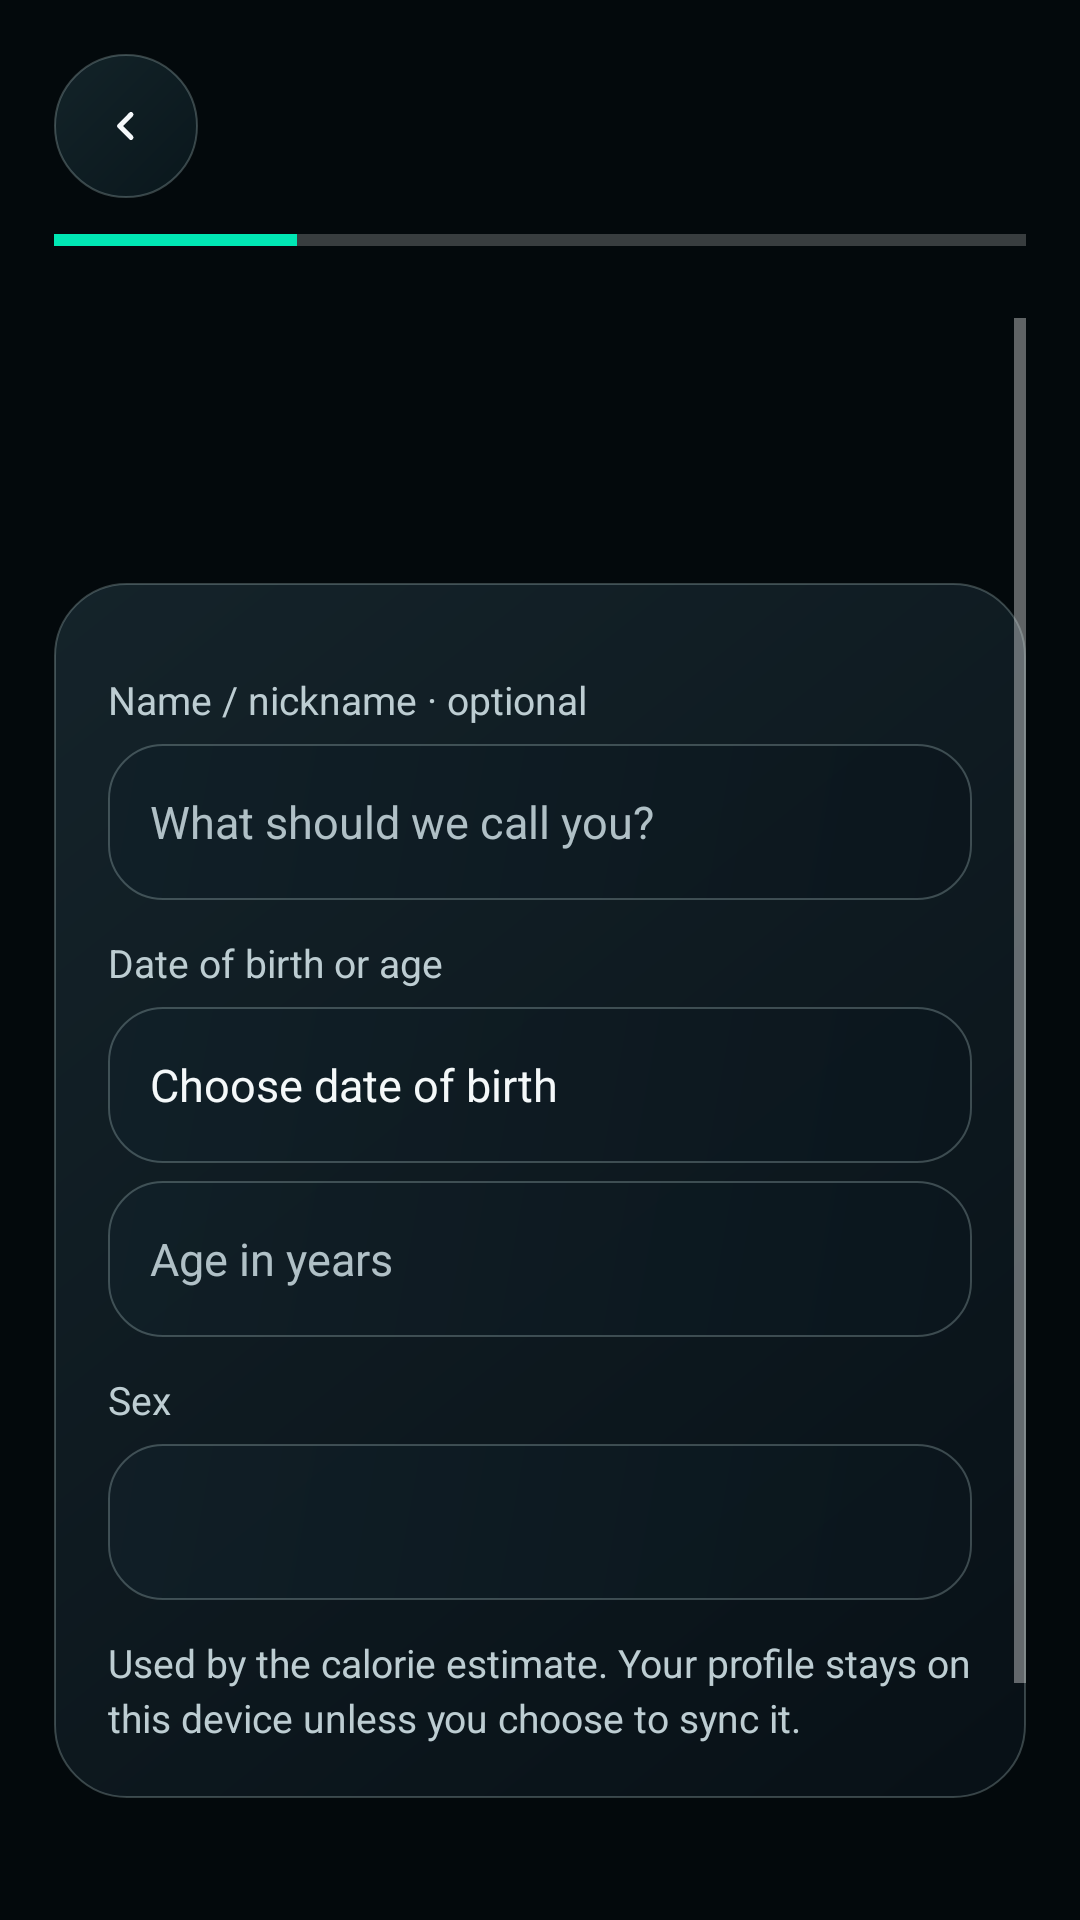

Icon click points for this 1080px×1920px phone screenshot, format (x,y):
arrow back: (125,126)
